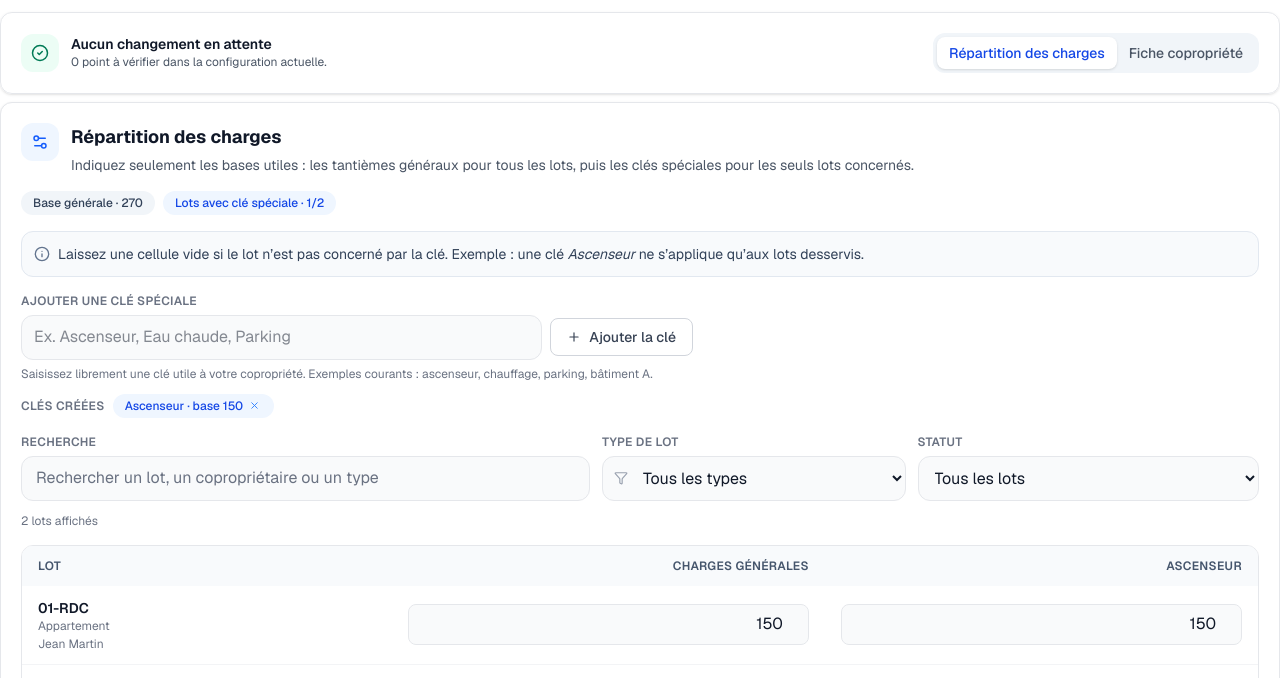
CoproSettingsPanel › affiche un état de brouillon quand des modifications ne sont pas enregistrées
The image size is (1280, 678).
Check: the text "Aucun changement en attente" is shown, box [71,35,272,53]
Click the button "Fiche copropriété" at point(1186, 53), box [1117,37,1255,69]
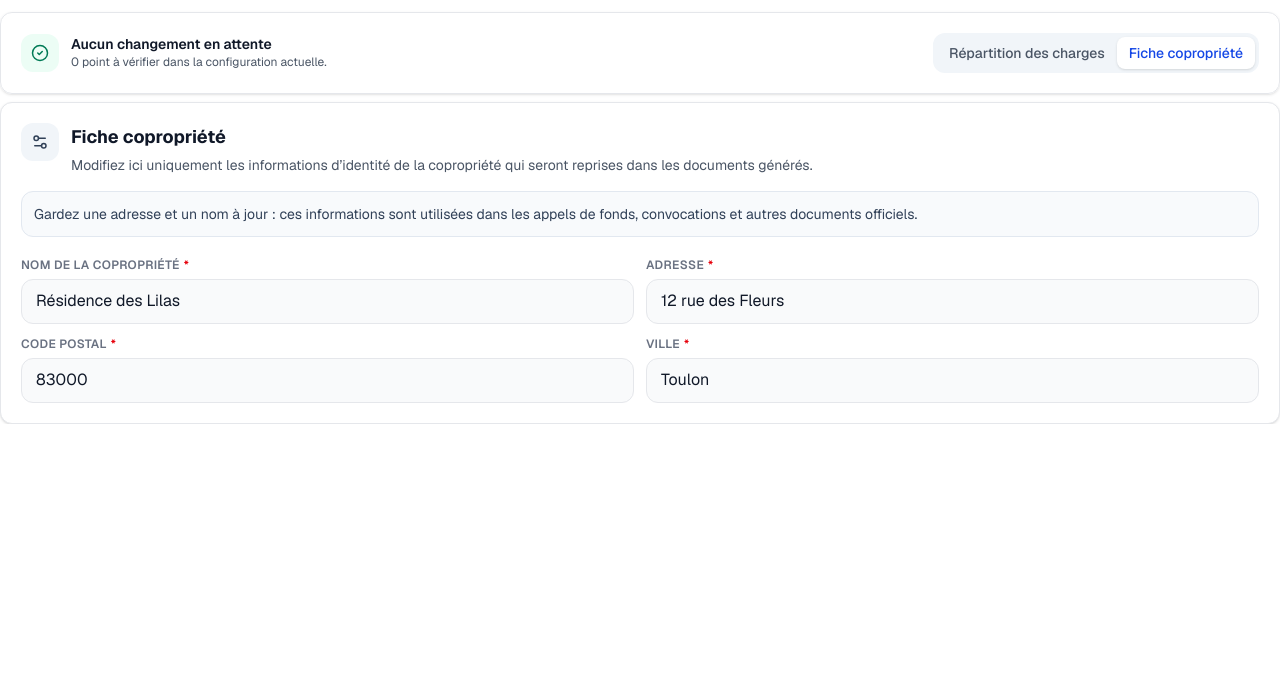
Replace the text in the field labelled "Nom de la copropriété*" with "Résidence des Lilas — B" at point(328, 301), box [21,279,634,324]
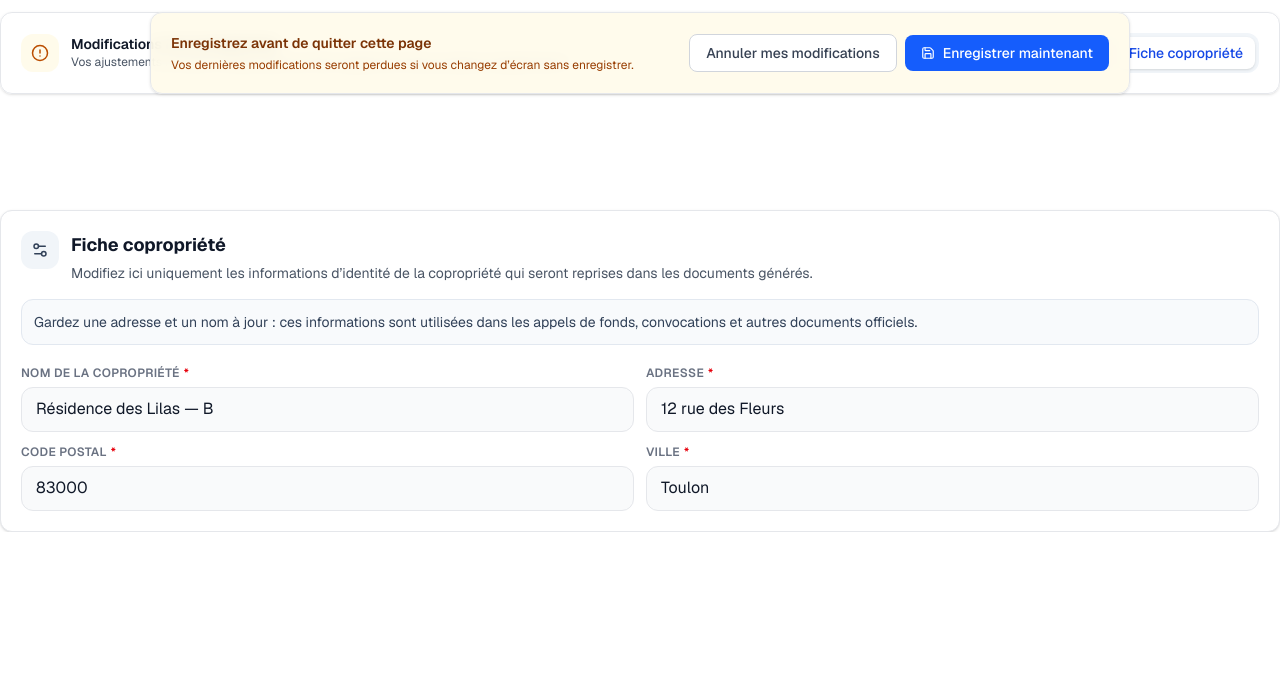
Check: the text "Modifications non enregistrées" is shown, box [71,35,278,53]
Check: the button "Enregistrer maintenant" is shown, box [905,35,1109,71]
Check: the text "Enregistrez avant de quitter cette page" is shown, box [171,34,431,52]
